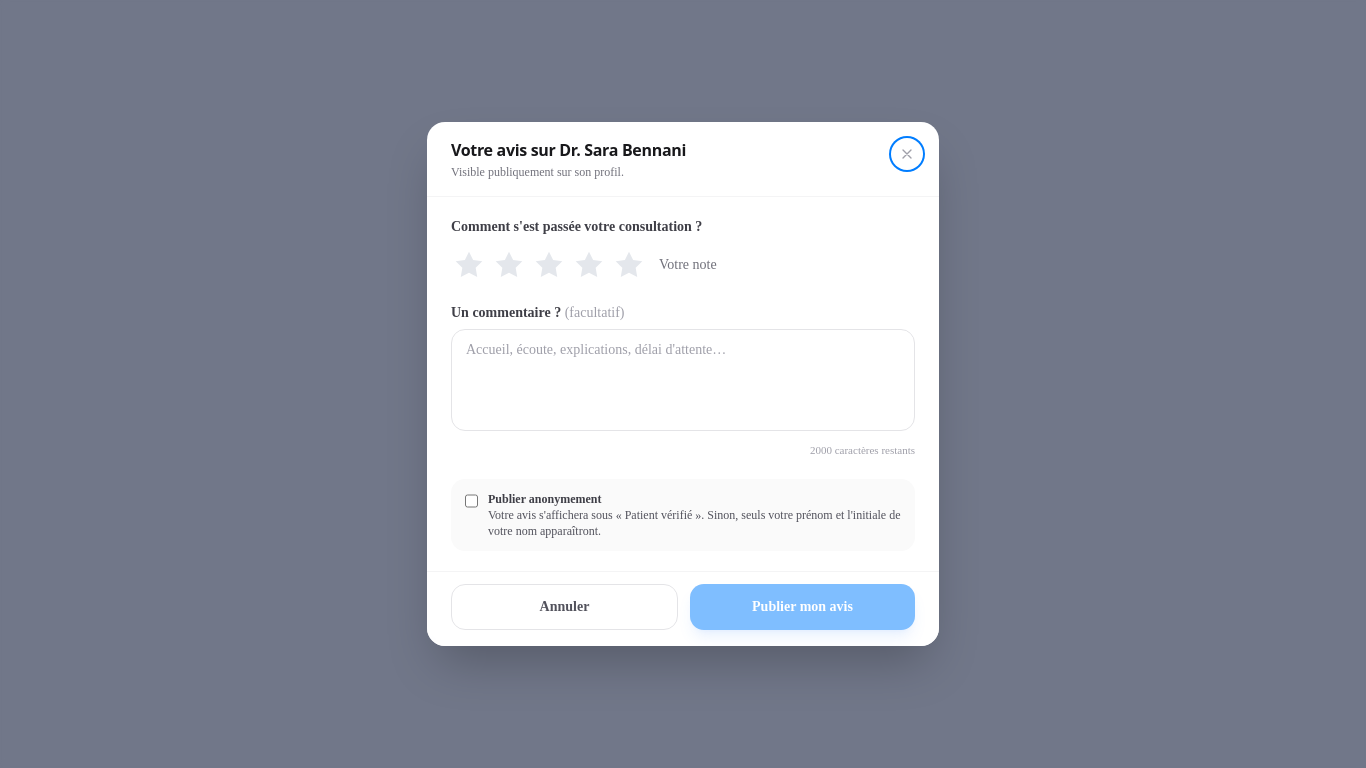
AvisFormModal › choisir une étoile ouvre la publication
The width and height of the screenshot is (1366, 768).
What coordinates should you click on to do the following:
click the radio button named "4 sur 5"
I would click on:
 (589, 265)
Its box is [571,247,607,283].
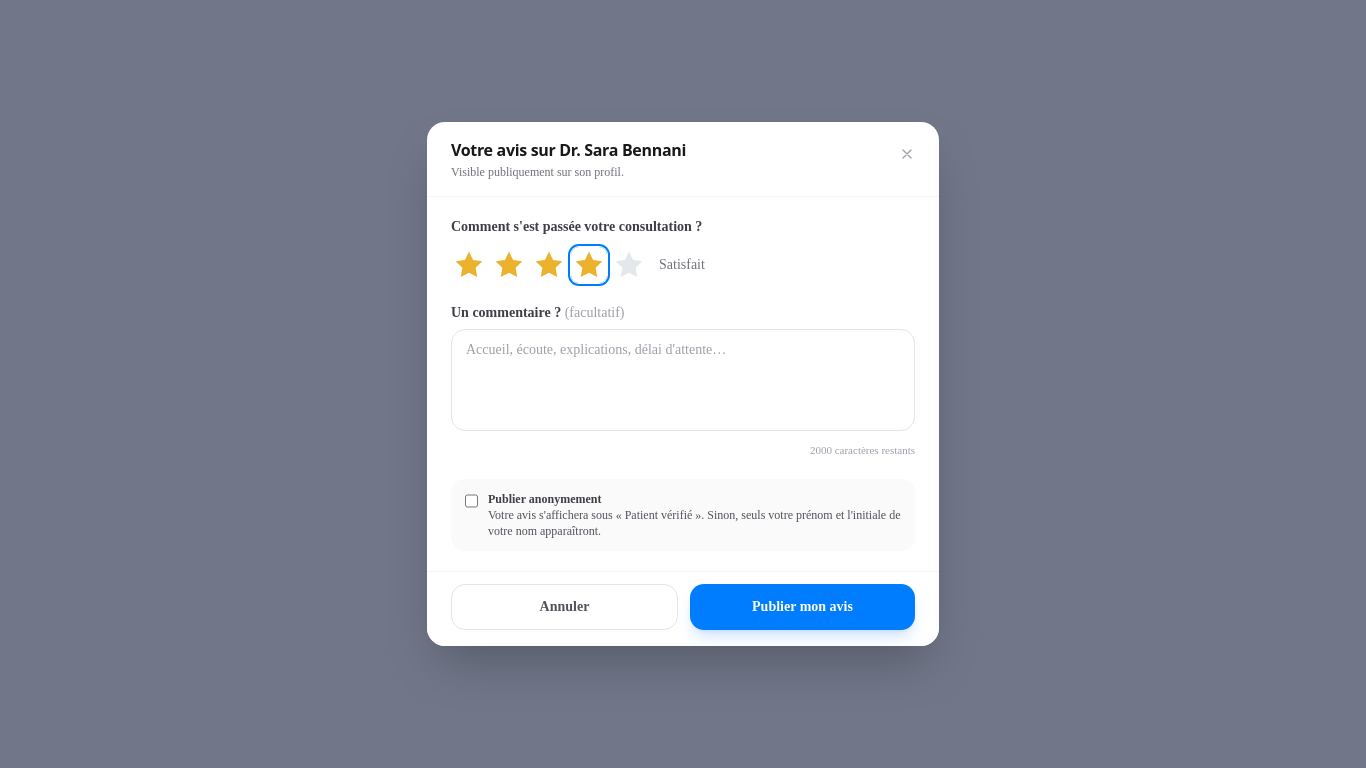
Now the button "Publier mon avis" is enabled, box [690,584,915,630]
